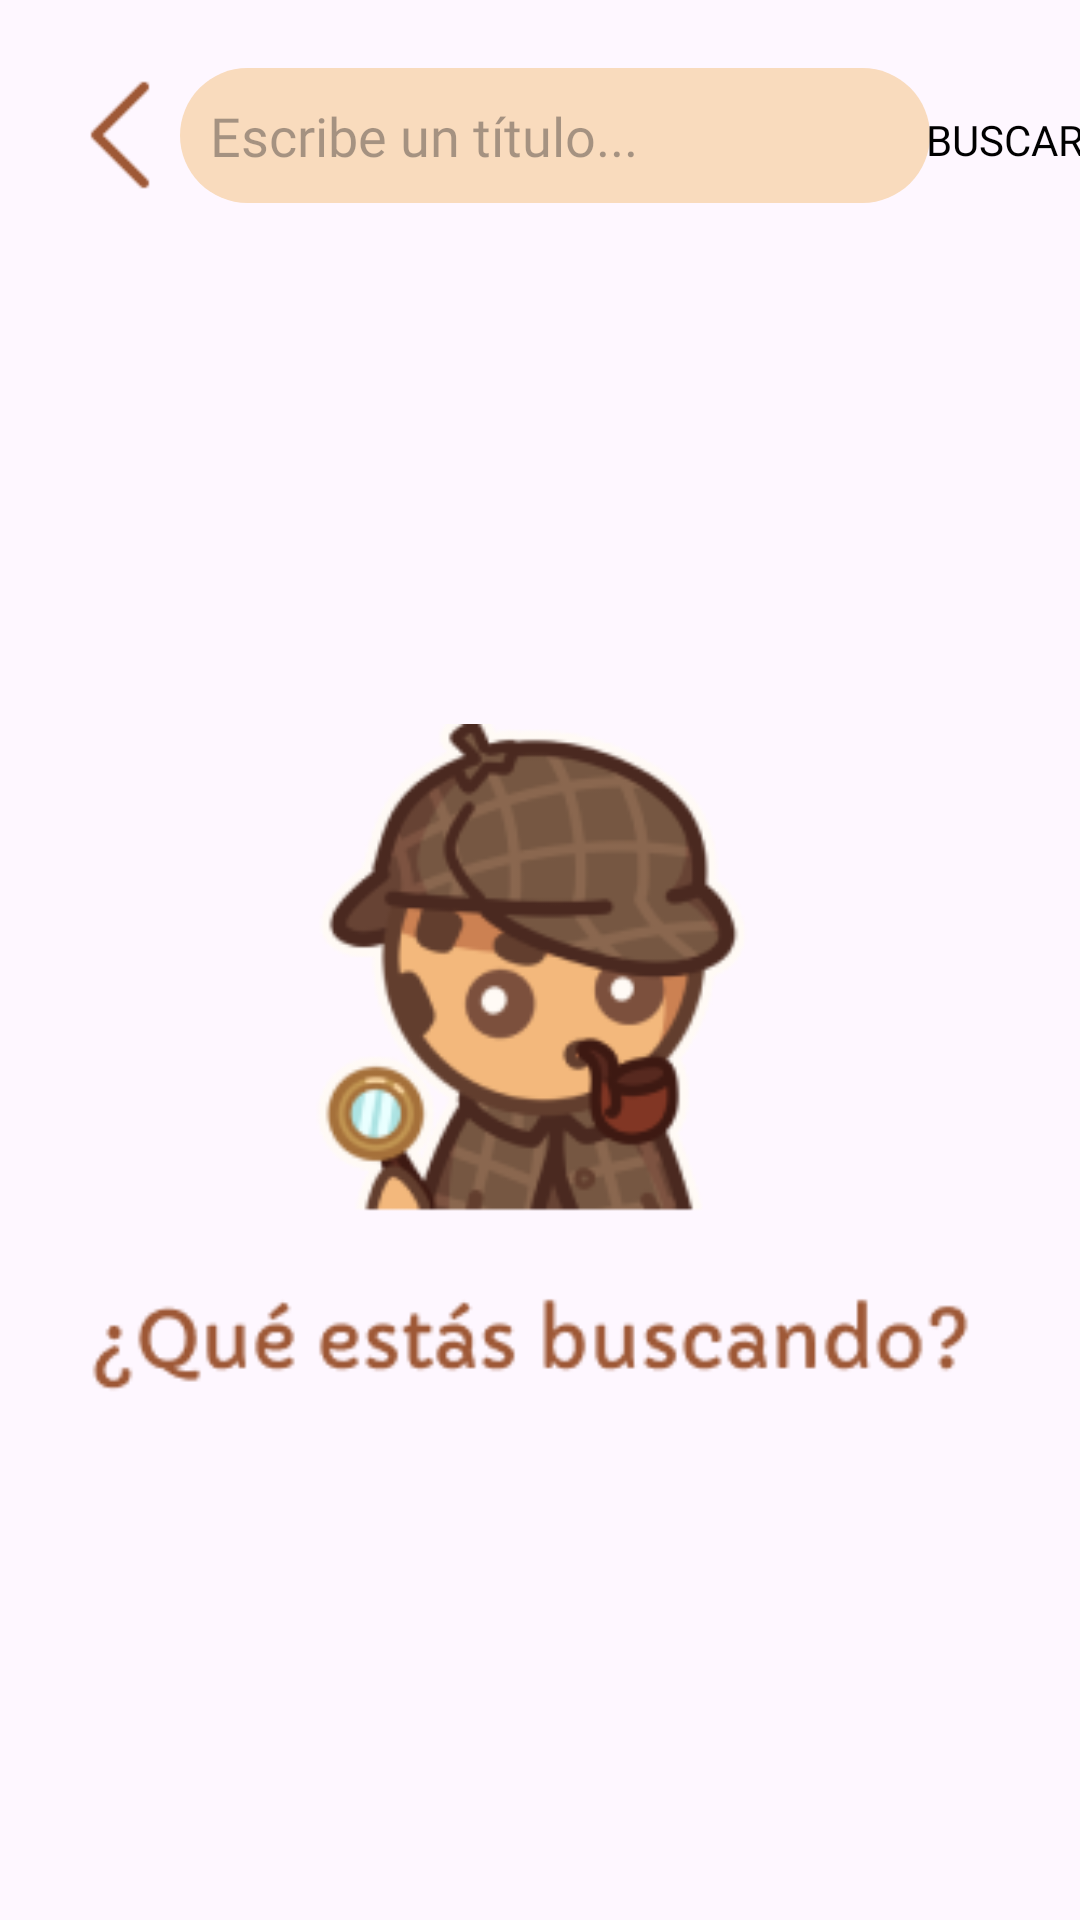

Icon bounding boxes for this 1080px x 1920px phone screenshot, format [x1=x1, y1=y1, x2=x2, y2=y2]:
backk: [x1=90, y1=81, x2=150, y2=189]
